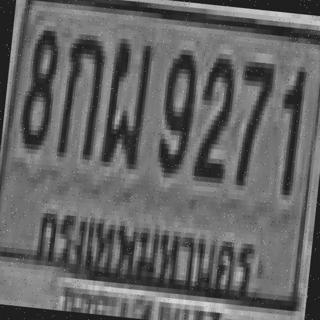A01: (54, 28, 105, 155)
A28: (100, 33, 153, 165)
N01: (273, 63, 305, 193)
N02: (192, 52, 235, 178)
N07: (231, 58, 272, 185)
N08: (18, 24, 60, 146)
N09: (154, 43, 198, 175)
P04: (28, 195, 264, 308)
